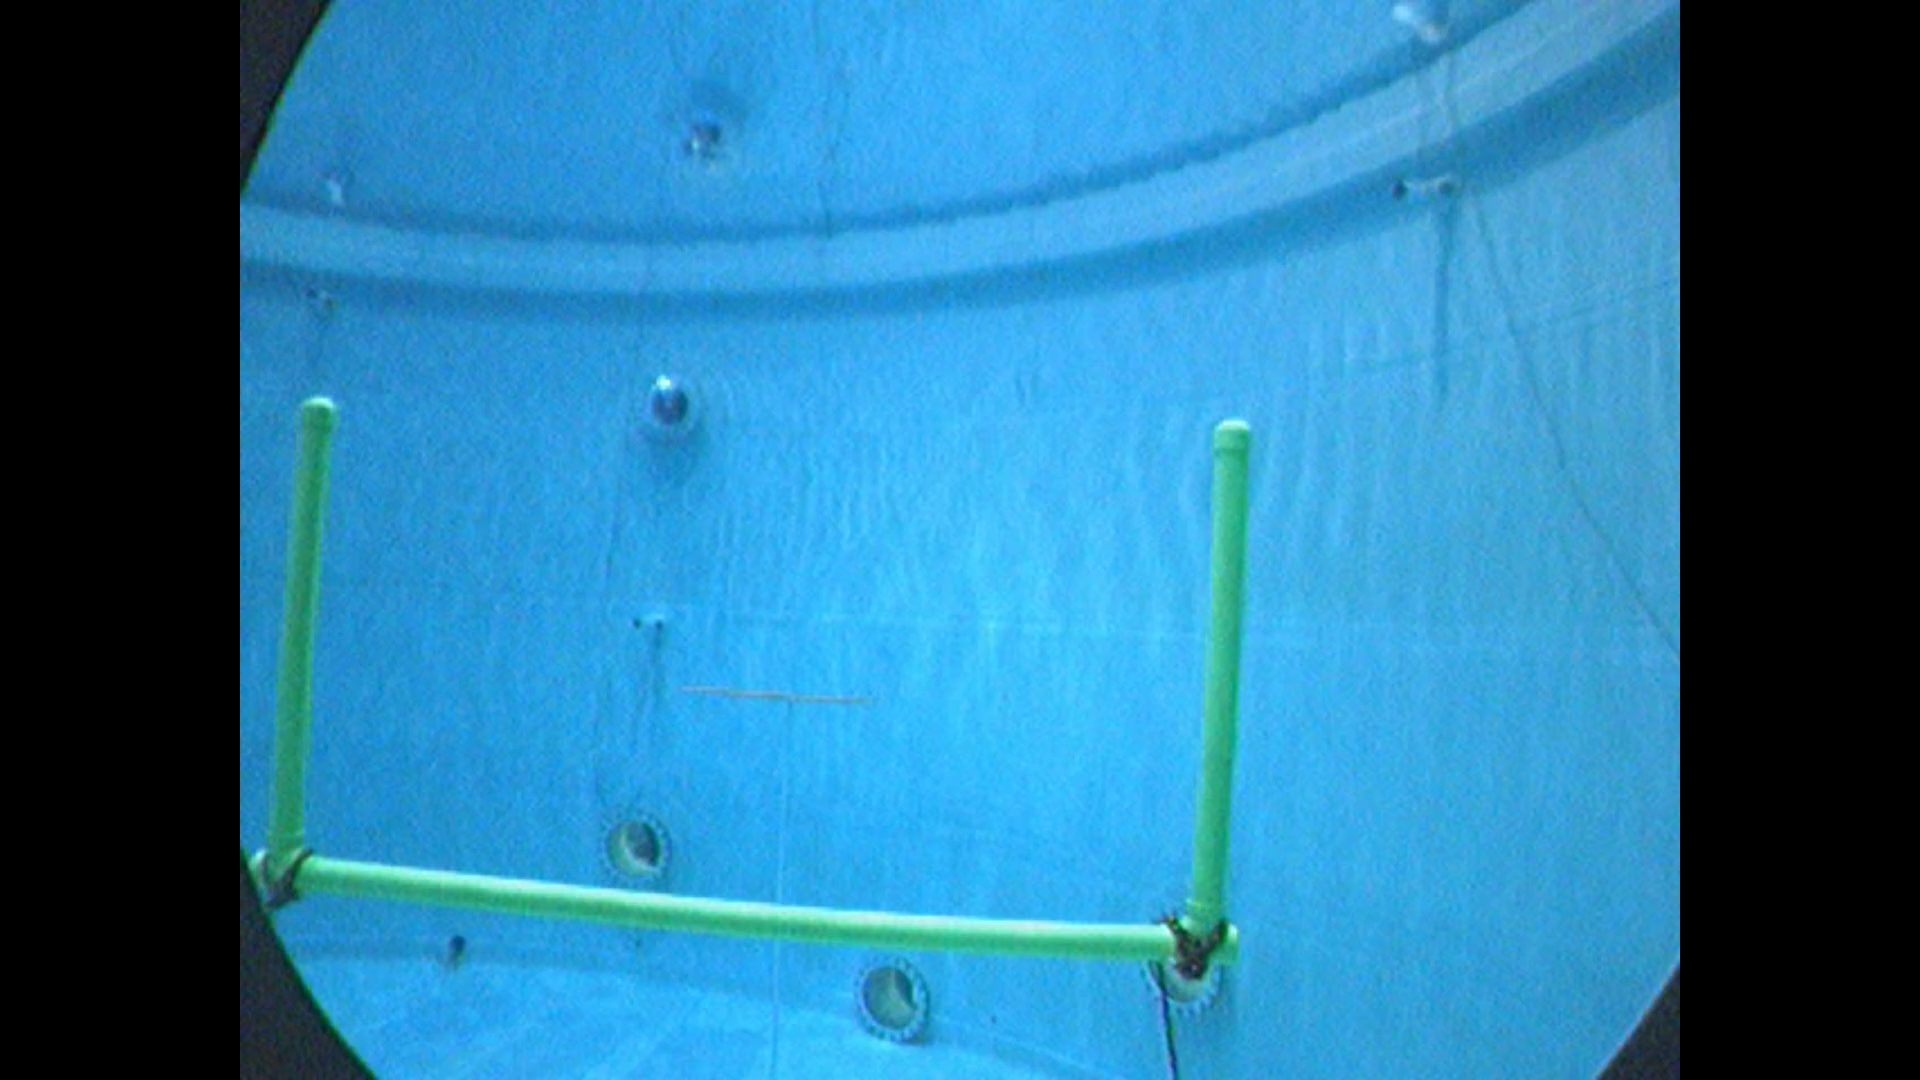gate: (241, 385, 1269, 986)
